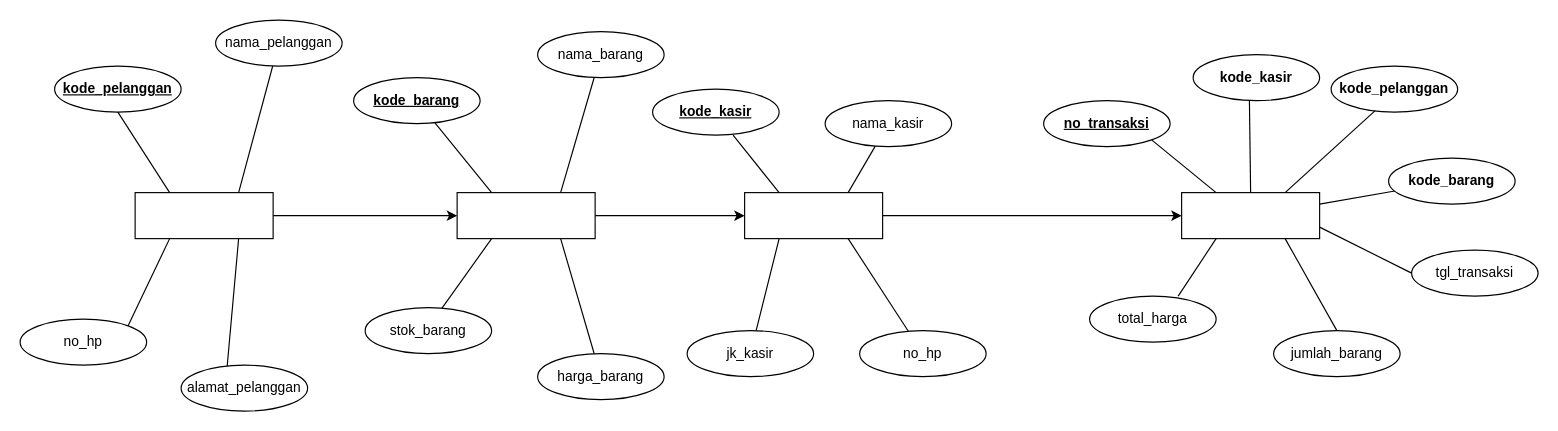
Image size: 1558x431. Some labels were removed from this diagram. Each missing label, with the centre of its shape:
"barang" goes at (x=525, y=215).
"kasir" goes at (x=813, y=215).
"pelanggan" goes at (x=203, y=215).
"transaksi" goes at (x=1250, y=215).
